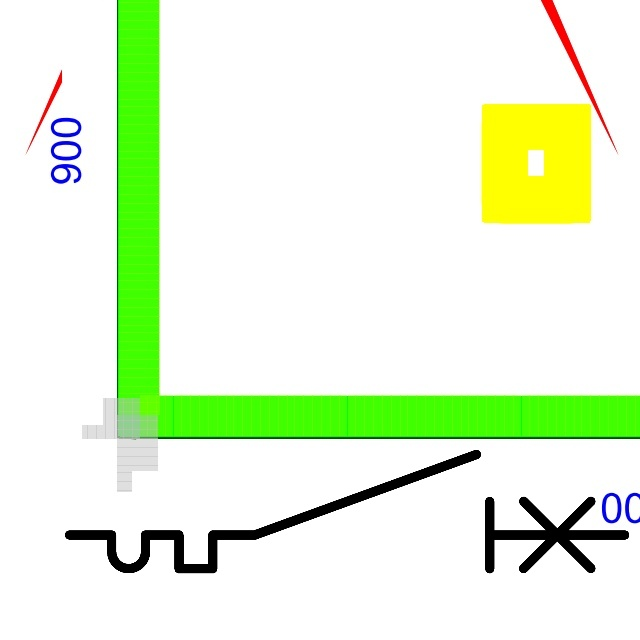interruptor_termomagnetico: (55, 440, 638, 583)
